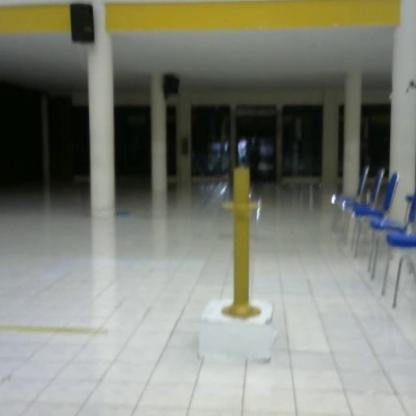pole: (216, 166, 273, 324)
